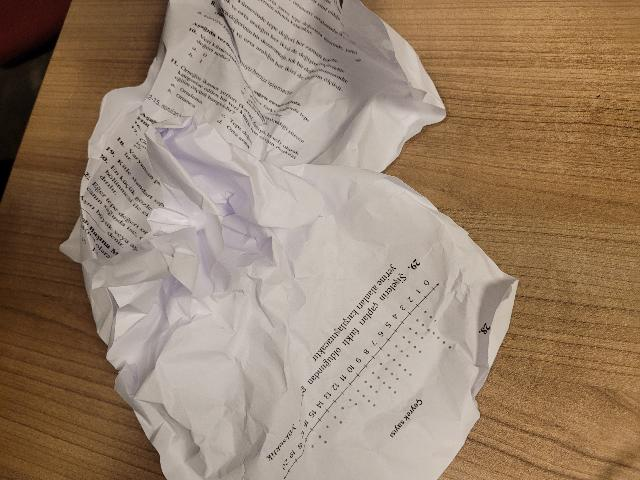Kagit: (56, 2, 519, 480)
